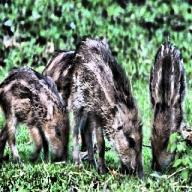boar: (0, 65, 69, 165), (148, 41, 191, 174)
